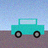vehicle: (11, 19, 44, 38)
